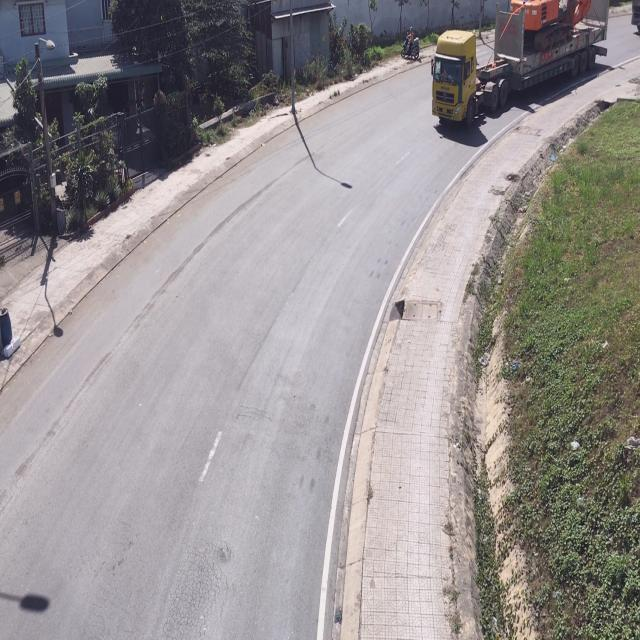motorbike: (400, 29, 420, 62)
truck: (429, 0, 608, 130)
